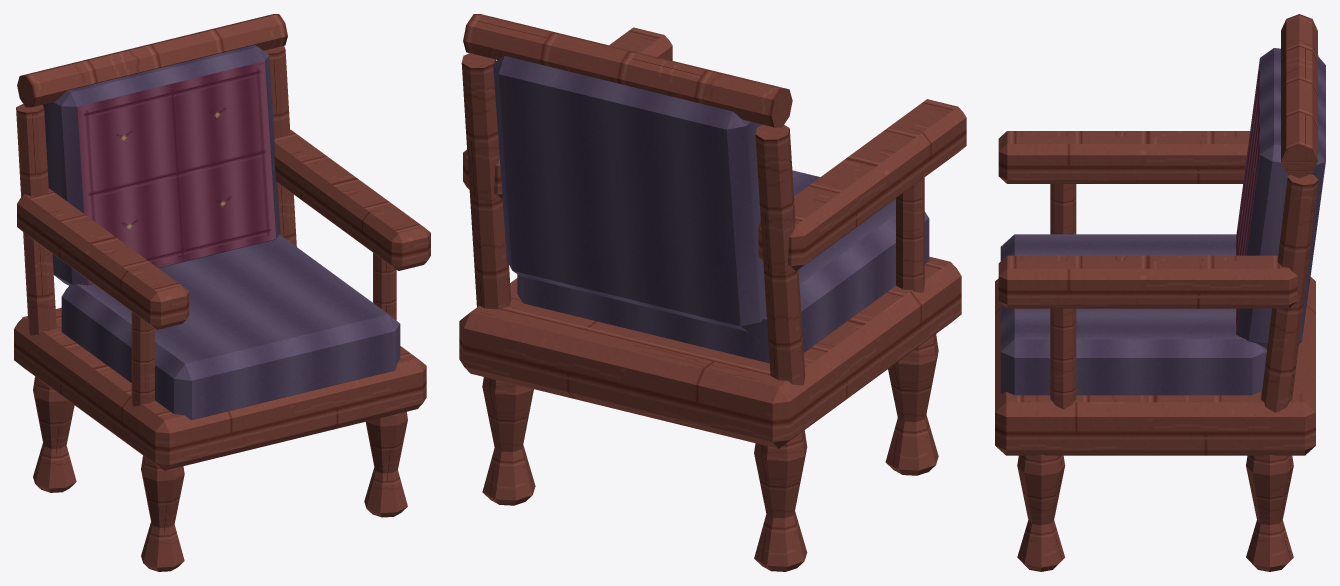
The model's file is MD_24_TimberArmchair.fbx.
The picture shows the model from 3 angles, left to right: view 1: azimuth 30°, elevation 25°; view 2: azimuth 150°, elevation 25°; view 3: azimuth 270°, elevation 25°; orthographic projection. The views are drawn at different scales.
Parts seen in each view (by area): view 1: MD_24_TimberArmchair_back_upholstery, MD_24_TimberArmchair_seat_cushion, MD_24_TimberArmchair_seat_frame, MD_24_TimberArmchair_arm_rest, MD_24_TimberArmchair_arm_rest.001, MD_24_TimberArmchair_back_crown, MD_24_TimberArmchair_back_upright, MD_24_TimberArmchair_turned_leg, MD_24_TimberArmchair_turned_leg.001, MD_24_TimberArmchair_turned_leg.002, MD_24_TimberArmchair_back_upright.001, MD_24_TimberArmchair_arm_support (+1 smaller); view 2: MD_24_TimberArmchair_back_upholstery, MD_24_TimberArmchair_seat_frame, MD_24_TimberArmchair_seat_cushion, MD_24_TimberArmchair_arm_rest, MD_24_TimberArmchair_back_crown, MD_24_TimberArmchair_back_upright, MD_24_TimberArmchair_back_upright.001, MD_24_TimberArmchair_turned_leg.001, MD_24_TimberArmchair_turned_leg, MD_24_TimberArmchair_turned_leg.003, MD_24_TimberArmchair_arm_support, MD_24_TimberArmchair_arm_rest.001; view 3: MD_24_TimberArmchair_seat_cushion, MD_24_TimberArmchair_seat_frame, MD_24_TimberArmchair_arm_rest.001, MD_24_TimberArmchair_arm_rest, MD_24_TimberArmchair_back_upholstery, MD_24_TimberArmchair_back_upright.001, MD_24_TimberArmchair_back_crown, MD_24_TimberArmchair_turned_leg.002, MD_24_TimberArmchair_turned_leg.003, MD_24_TimberArmchair_arm_support.001, MD_24_TimberArmchair_arm_support.
Part boxes in pixels (x1,y1,x2,y2): MD_24_TimberArmchair_back_upholstery: [43, 45, 280, 285]; MD_24_TimberArmchair_seat_cushion: [61, 234, 400, 419]; MD_24_TimberArmchair_seat_frame: [14, 307, 426, 470]; MD_24_TimberArmchair_arm_rest: [17, 188, 189, 329]; MD_24_TimberArmchair_arm_rest.001: [274, 129, 430, 270]; MD_24_TimberArmchair_back_crown: [17, 14, 287, 107]; MD_24_TimberArmchair_back_upright: [16, 104, 56, 335]; MD_24_TimberArmchair_turned_leg: [141, 455, 184, 571]; MD_24_TimberArmchair_turned_leg.001: [33, 376, 76, 492]; MD_24_TimberArmchair_turned_leg.002: [364, 411, 407, 517]; MD_24_TimberArmchair_back_upright.001: [263, 46, 296, 246]; MD_24_TimberArmchair_arm_support: [131, 312, 154, 406]; MD_24_TimberArmchair_back_upholstery: [493, 56, 766, 331]; MD_24_TimberArmchair_seat_frame: [459, 256, 961, 448]; MD_24_TimberArmchair_seat_cushion: [517, 170, 929, 363]; MD_24_TimberArmchair_arm_rest: [758, 99, 966, 270]; MD_24_TimberArmchair_back_crown: [463, 14, 792, 127]; MD_24_TimberArmchair_back_upright: [755, 125, 805, 385]; MD_24_TimberArmchair_back_upright.001: [461, 53, 511, 309]; MD_24_TimberArmchair_turned_leg.001: [754, 430, 807, 571]; MD_24_TimberArmchair_turned_leg: [885, 334, 938, 475]; MD_24_TimberArmchair_turned_leg.003: [482, 377, 535, 505]; MD_24_TimberArmchair_arm_support: [896, 177, 924, 292]; MD_24_TimberArmchair_arm_rest.001: [463, 27, 672, 199]; MD_24_TimberArmchair_seat_cushion: [1000, 234, 1266, 395]; MD_24_TimberArmchair_seat_frame: [995, 277, 1315, 455]; MD_24_TimberArmchair_arm_rest.001: [998, 255, 1297, 308]; MD_24_TimberArmchair_arm_rest: [998, 131, 1250, 183]; MD_24_TimberArmchair_back_upholstery: [1236, 48, 1325, 349]; MD_24_TimberArmchair_back_upright.001: [1261, 174, 1318, 412]; MD_24_TimberArmchair_back_crown: [1281, 14, 1317, 178]; MD_24_TimberArmchair_turned_leg.002: [1017, 454, 1065, 571]; MD_24_TimberArmchair_turned_leg.003: [1246, 454, 1293, 571]; MD_24_TimberArmchair_arm_support.001: [1050, 308, 1076, 409]; MD_24_TimberArmchair_arm_support: [1050, 184, 1076, 234].
Bounding box in the file's own units: 0.93 × 1.28 × 0.8968.
Materials: 3 (3 with a texture image).
